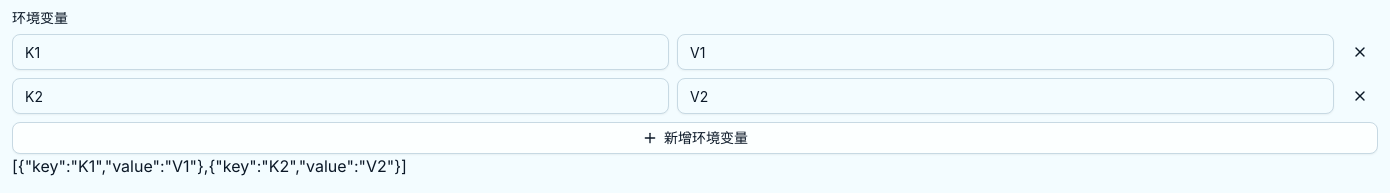
it: KeyValueField › 交互 › 多行交错编辑：修改第二行 key 不影响第一行
Replace the text in the field with placeholder "例如：OPENAI_API_KEY" with "RENAMED" at (340, 96), box 12,78 -> 669,114
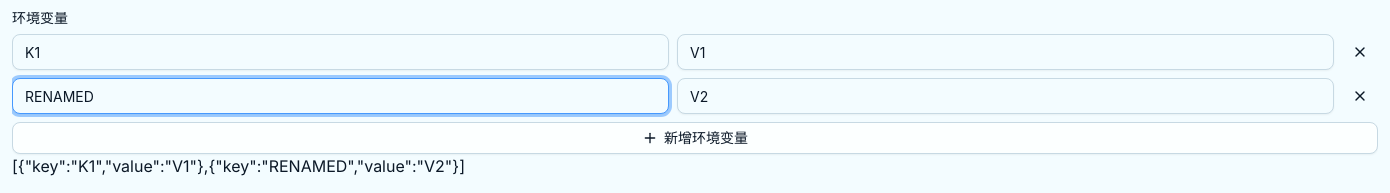
Result: the text with test id "env" reads "[{\"key\":\"K1\",\"value\":\"V1\"},{\"key\":\"RENAMED\",\"value\":\"V2\"}]" at 12,156 -> 465,176
